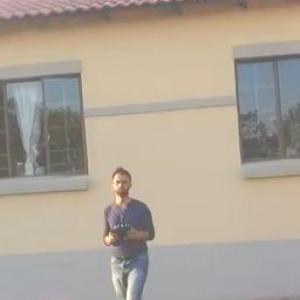follow: (100, 158, 162, 299)
